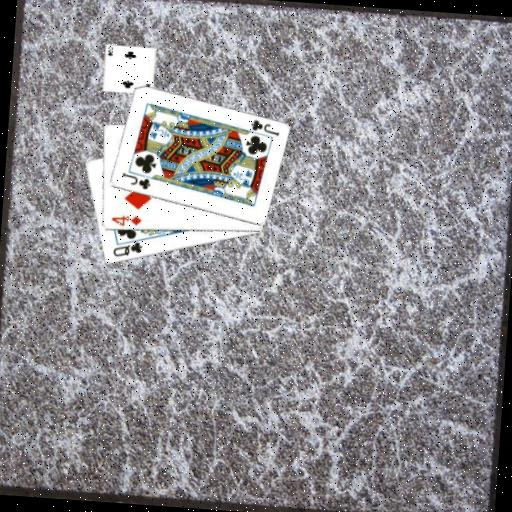4D: (108, 212, 143, 229)
JC: (118, 170, 153, 192), (247, 117, 282, 138)
QC: (109, 238, 144, 261)
